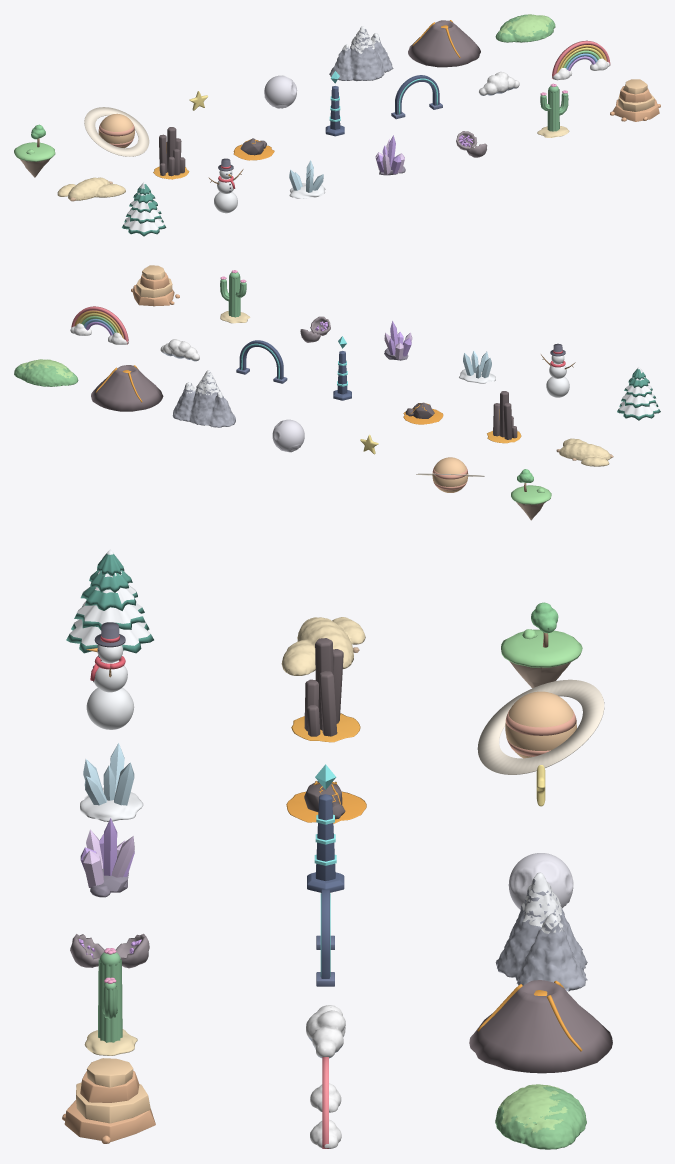
Rendered from RunwayBatch3.fbx.
The picture shows the model from 3 angles, top to bottom: view 1: azimuth 30°, elevation 25°; view 2: azimuth 150°, elevation 25°; view 3: azimuth 270°, elevation 25°; orthographic projection. The views are drawn at different scales.
Visible parts, largest first — view 1: VolcanoRock, MountainRock, PlanetRing, DuneSand, SpireRock, MesaRockA, MoonSurface, CactusBody, PineSnow, PlanetBody, PineNeedles, HillGrassTop (+14 smaller); view 2: VolcanoRock, MountainRock, HillGrass, DuneSand, MoonSurface, SpireRock, PineSnow, PlanetBody, MesaRockA, CactusBody, PineNeedles, SnowmanBody (+10 smaller); view 3: VolcanoRock, MountainRock, PlanetRing, SpireRock, MesaRockA, PlanetBody, HillGrass, DuneSand, PineNeedles, MesaRockB, SnowmanBody, IslandGrass (+17 smaller).
Boxes of the visible parts, x1,y1,x2,y2 form: VolcanoRock: (408,20,480,67); MountainRock: (329,28,393,81); PlanetRing: (84,107,149,156); DuneSand: (57,177,125,200); SpireRock: (159,127,185,176); MesaRockA: (610,86,660,121); MoonSurface: (264,75,297,108); CactusBody: (540,86,568,131); PineSnow: (123,182,164,232); PlanetBody: (98,113,134,147); PineNeedles: (122,184,166,236); HillGrassTop: (499,14,551,36); VolcanoRock: (91,365,163,411); MountainRock: (172,372,235,427); HillGrass: (14,362,78,386); DuneSand: (559,438,610,466); MoonSurface: (272,419,304,452); SpireRock: (493,391,517,439); PineSnow: (618,367,658,416); PlanetBody: (432,457,468,492); MesaRockA: (131,272,179,306); CactusBody: (220,272,246,317); PineNeedles: (617,369,660,420); SnowmanBody: (546,355,569,397); VolcanoRock: (469,980,612,1073); MountainRock: (495,879,587,991); PlanetRing: (477,679,604,774); SpireRock: (304,638,343,736); MesaRockA: (62,1071,155,1143); PlanetBody: (505,691,576,758); HillGrass: (495,1086,586,1149); DuneSand: (281,617,365,675); PineNeedles: (66,554,153,653); MesaRockB: (76,1058,150,1123); SnowmanBody: (86,645,134,729); IslandGrass: (501,629,582,667).
Bounding box in the file's own units: 17395 × 2643 × 7671.
